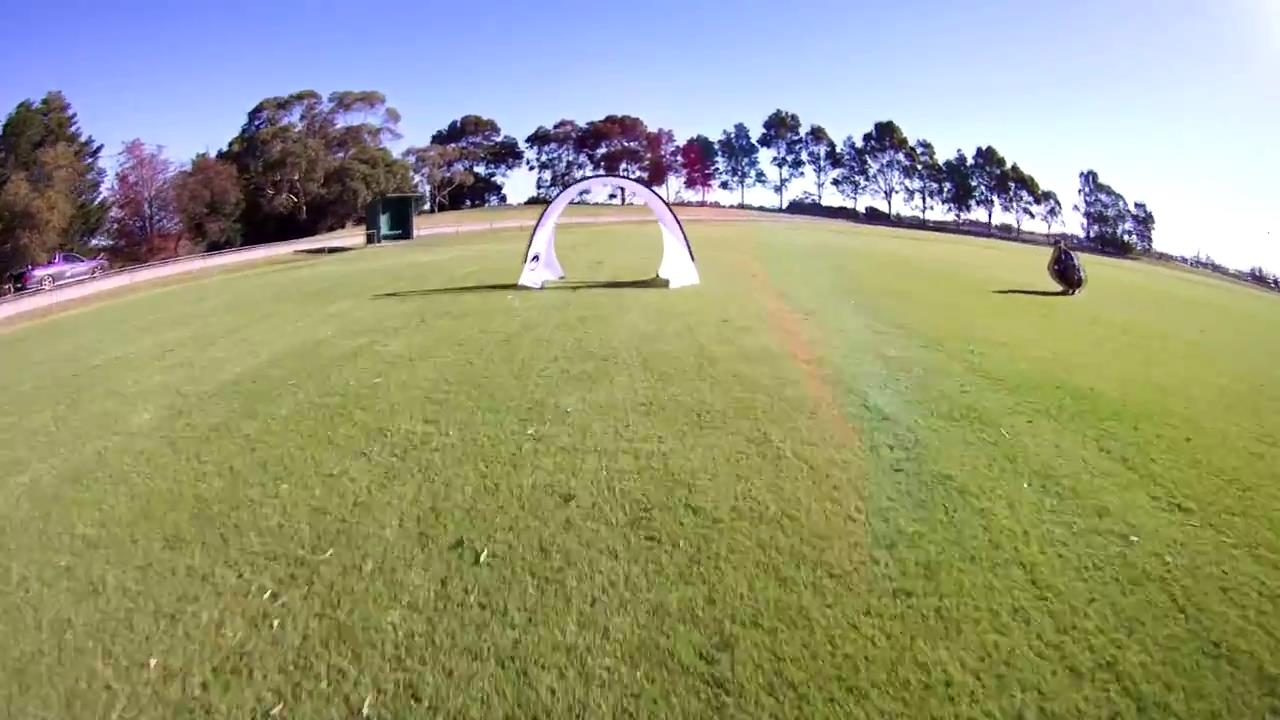gate: (518, 173, 704, 292)
